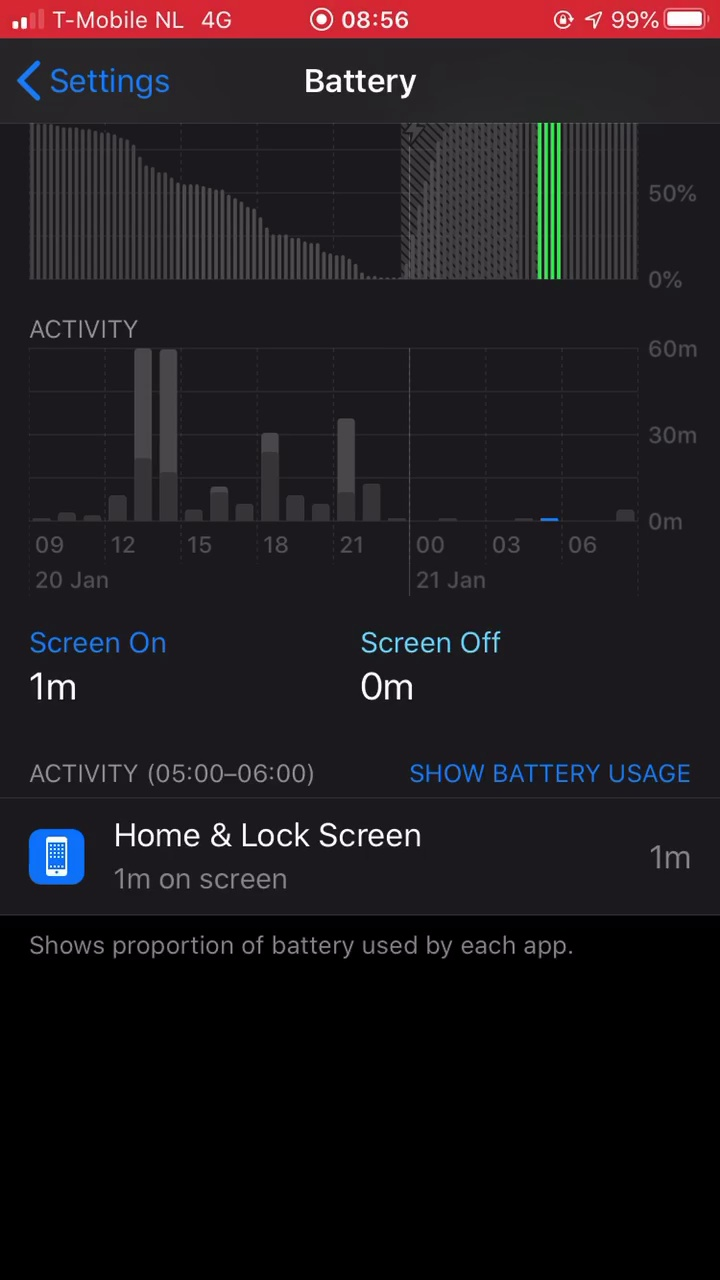activity: (20, 741, 348, 808)
app: (23, 813, 704, 917)
